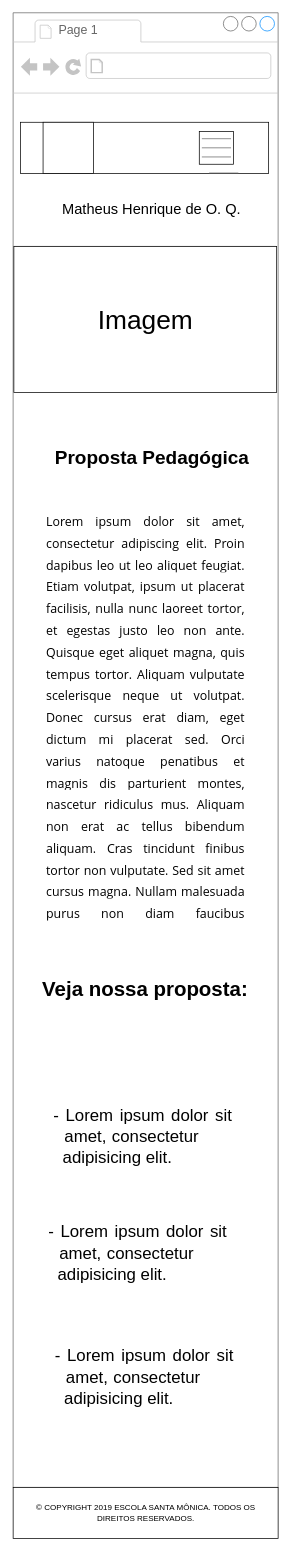
Some shapes in this 303 by 1551 pixel diagram are drawn without their labels. Each missing label, with the centre of its shape:
"https://www.escolasantamonica.com" goes at [199,66].
"Logo" goes at [67,147].
